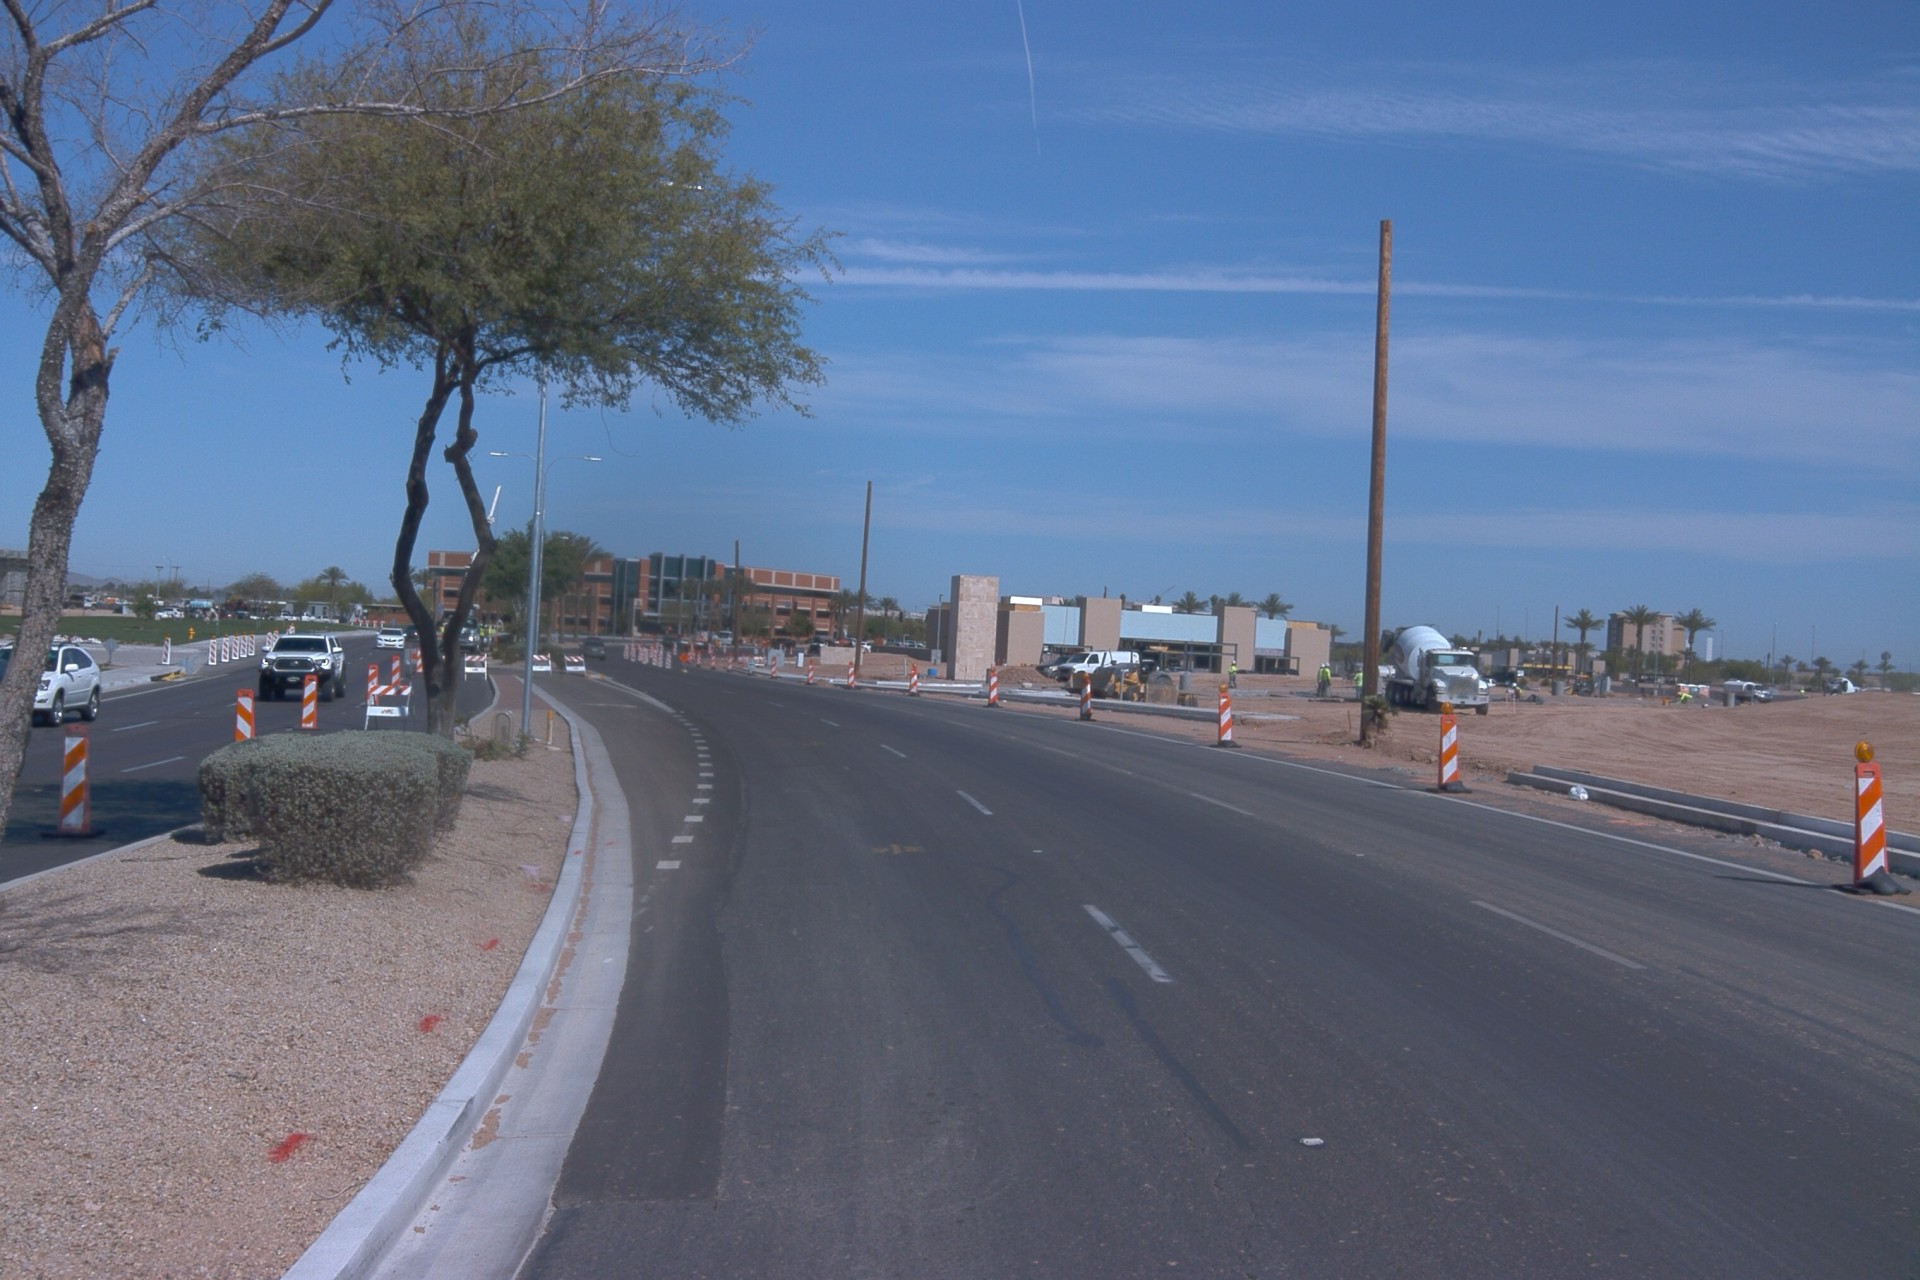TYPE_PEDESTRIAN: (1320, 663, 1333, 699), (1315, 663, 1327, 698), (1352, 668, 1364, 703), (1227, 659, 1238, 690), (1510, 681, 1525, 700), (478, 626, 485, 647), (717, 638, 723, 651), (487, 624, 494, 635)
TYPE_VEHICLE: (428, 480, 505, 662), (0, 639, 105, 729), (258, 630, 350, 705), (0, 656, 35, 790), (1052, 650, 1141, 683), (627, 617, 666, 663), (1721, 675, 1775, 708), (678, 629, 725, 655), (1032, 654, 1071, 684), (60, 592, 102, 614), (575, 637, 608, 663), (375, 627, 409, 651), (1561, 677, 1600, 696), (713, 628, 747, 649), (807, 636, 843, 655), (263, 608, 304, 622), (1376, 663, 1400, 684), (1139, 654, 1158, 679), (1263, 665, 1299, 676), (160, 607, 186, 622), (216, 609, 240, 625), (400, 626, 419, 640), (156, 607, 174, 621), (108, 604, 123, 618), (1481, 677, 1500, 688), (1236, 669, 1257, 675), (710, 633, 718, 646), (1329, 673, 1342, 679)
